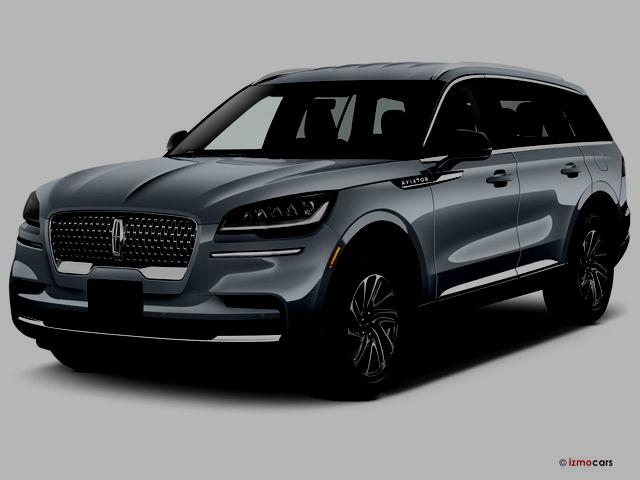lincoln: (107, 211, 133, 265)
